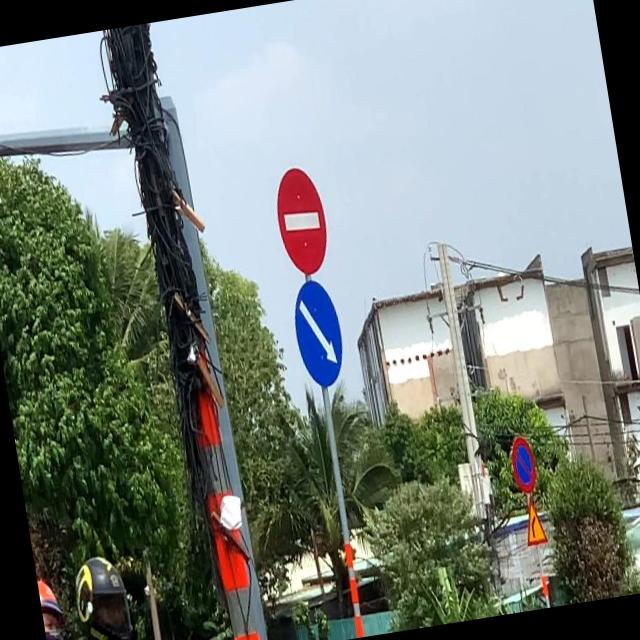P-102: (272, 164, 334, 278)
P-131a: (508, 434, 542, 495)
R-302a: (288, 276, 350, 392)
W-201b: (519, 496, 547, 547)
